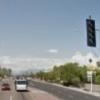traffic lights: (87, 16, 100, 50)
